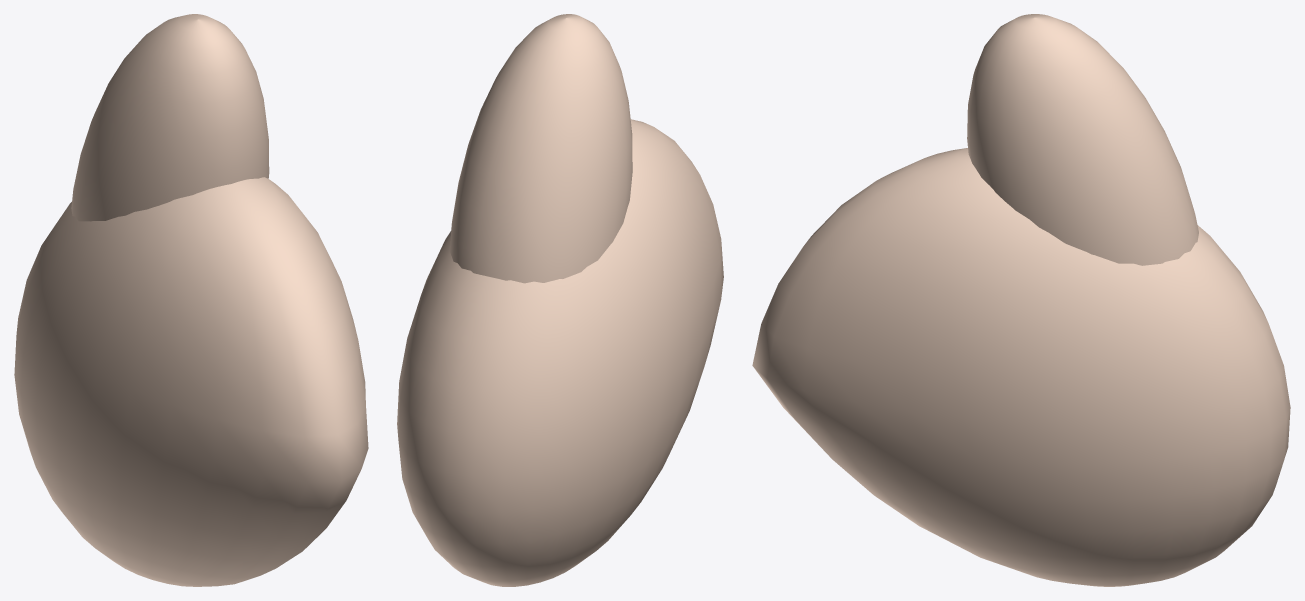
3 views of the same model, side by side, from view 1: azimuth 30°, elevation 25°; view 2: azimuth 150°, elevation 25°; view 3: azimuth 270°, elevation 25° (orthographic). The views are drawn at different scales.
Visible parts, largest first — view 1: Nose_Tip, Nose_Bridge; view 2: Nose_Tip, Nose_Bridge; view 3: Nose_Tip, Nose_Bridge.
Part boxes in pixels (x1,y1,x2,y2): Nose_Tip: [14, 177, 368, 586]; Nose_Bridge: [71, 14, 269, 221]; Nose_Tip: [397, 119, 723, 586]; Nose_Bridge: [449, 14, 632, 283]; Nose_Tip: [752, 148, 1290, 586]; Nose_Bridge: [967, 14, 1198, 265].
Size of the model in its own units: 0.028 by 0.063 by 0.0547.
